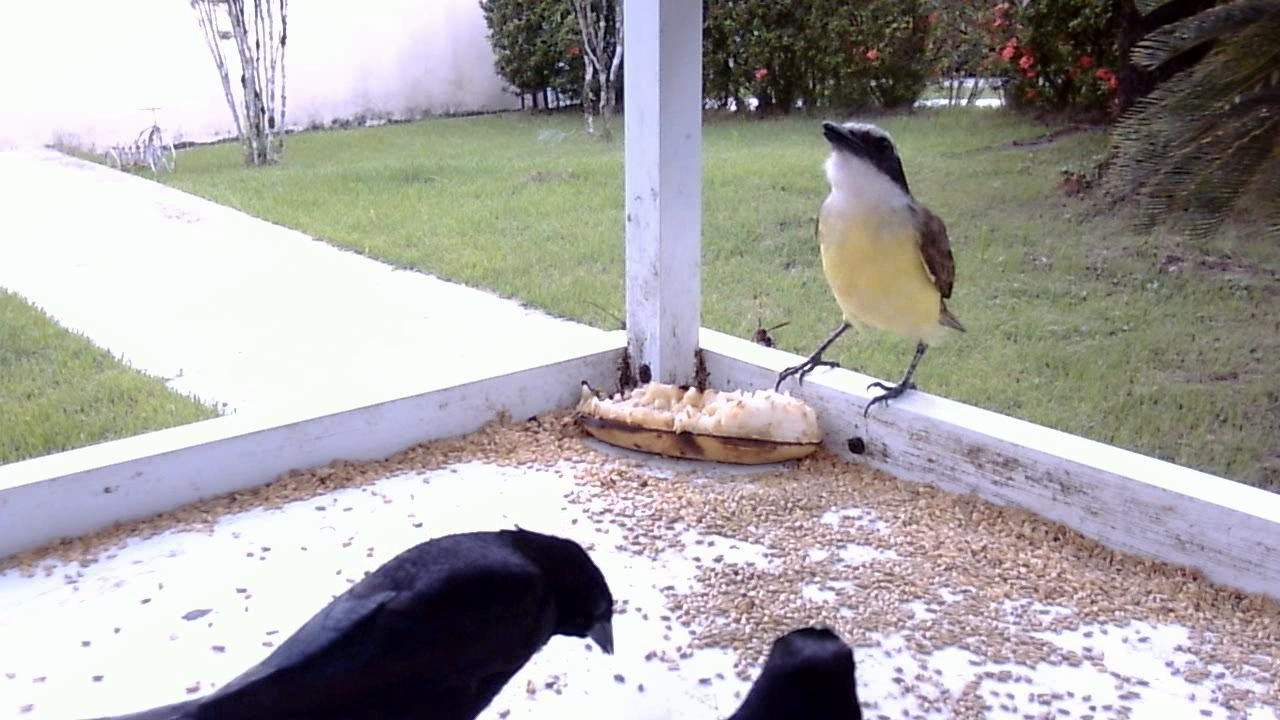bem_te_vi: (762, 105, 977, 434)
chupim: (100, 508, 633, 715), (685, 608, 887, 713)
